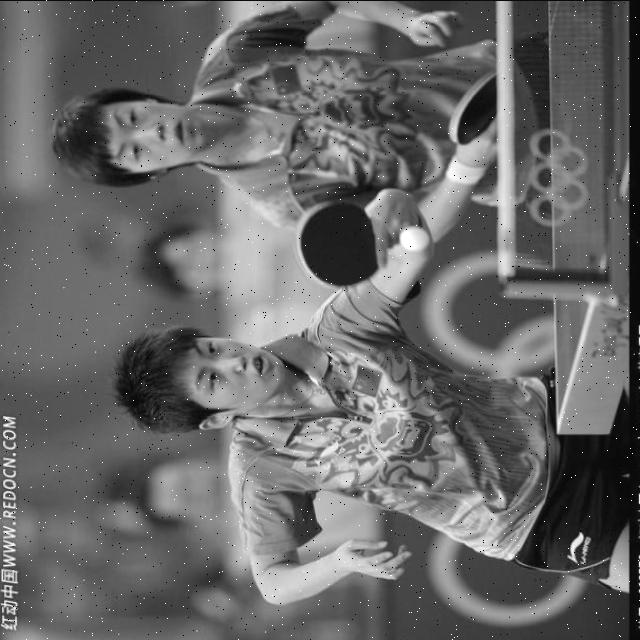ping-pong-ball: (396, 222, 431, 255)
